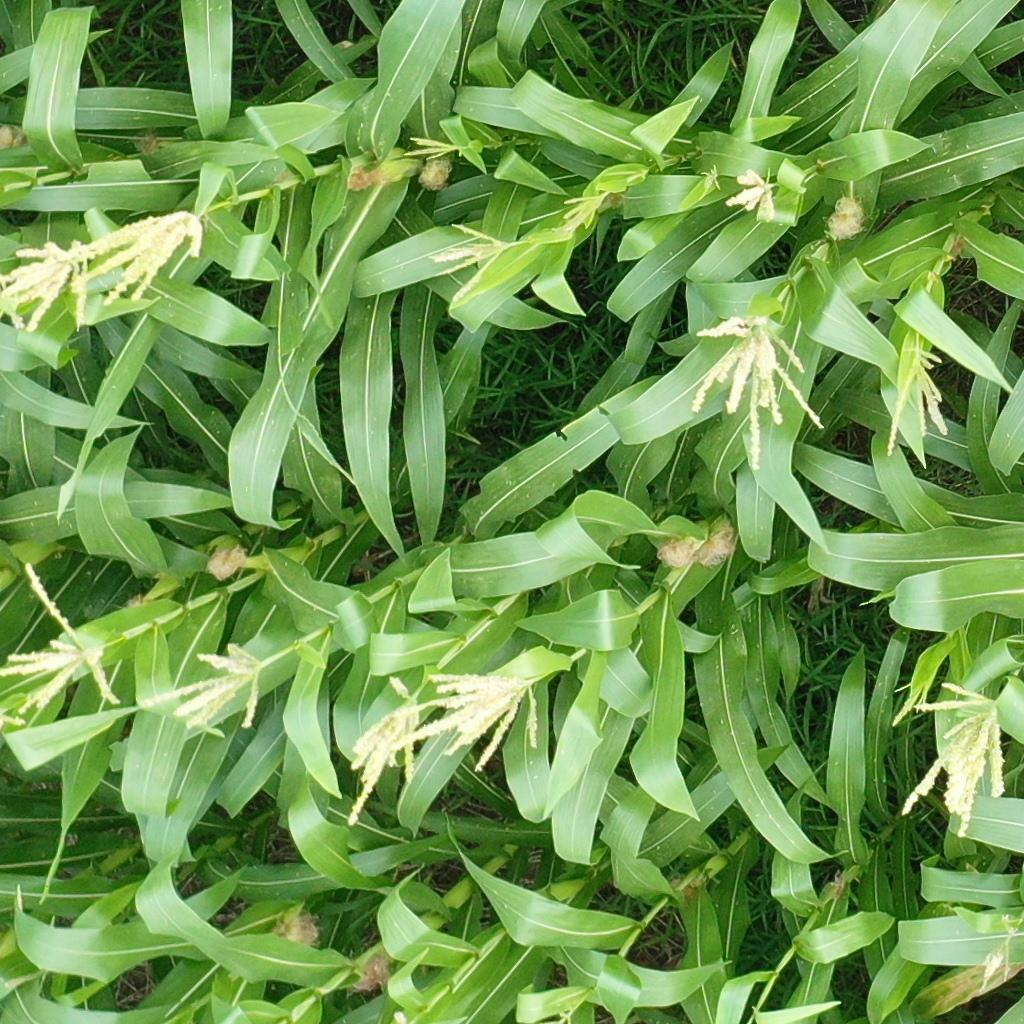Tassel: (692, 313, 829, 471), (1, 561, 121, 729), (900, 682, 1014, 839), (394, 666, 543, 778), (66, 207, 208, 307), (137, 640, 270, 738), (342, 676, 421, 828), (1, 238, 94, 332), (428, 219, 519, 302), (886, 346, 953, 457), (727, 173, 780, 217), (557, 189, 610, 231), (889, 681, 928, 726), (981, 936, 1012, 991), (405, 135, 459, 161), (700, 163, 722, 202), (552, 1005, 577, 1024)
